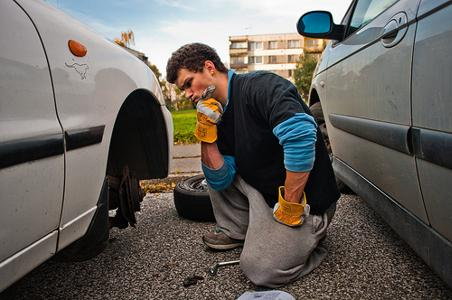person: (164, 41, 342, 291)
